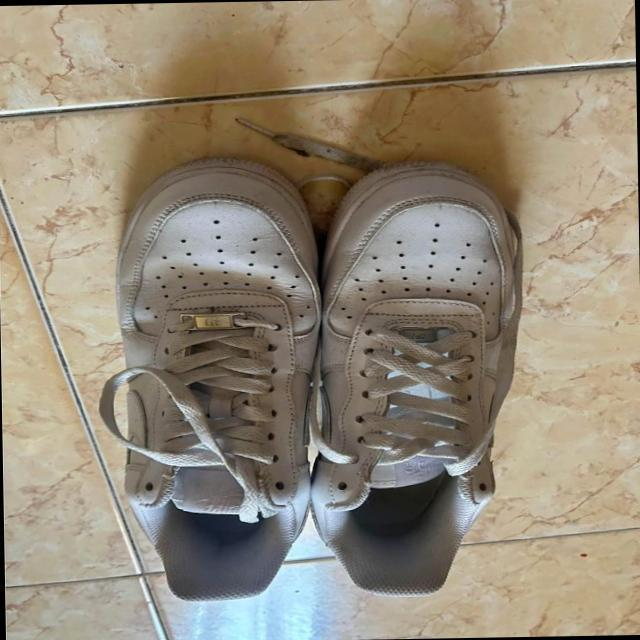nike fake air force: (306, 153, 536, 593), (99, 152, 322, 601)
